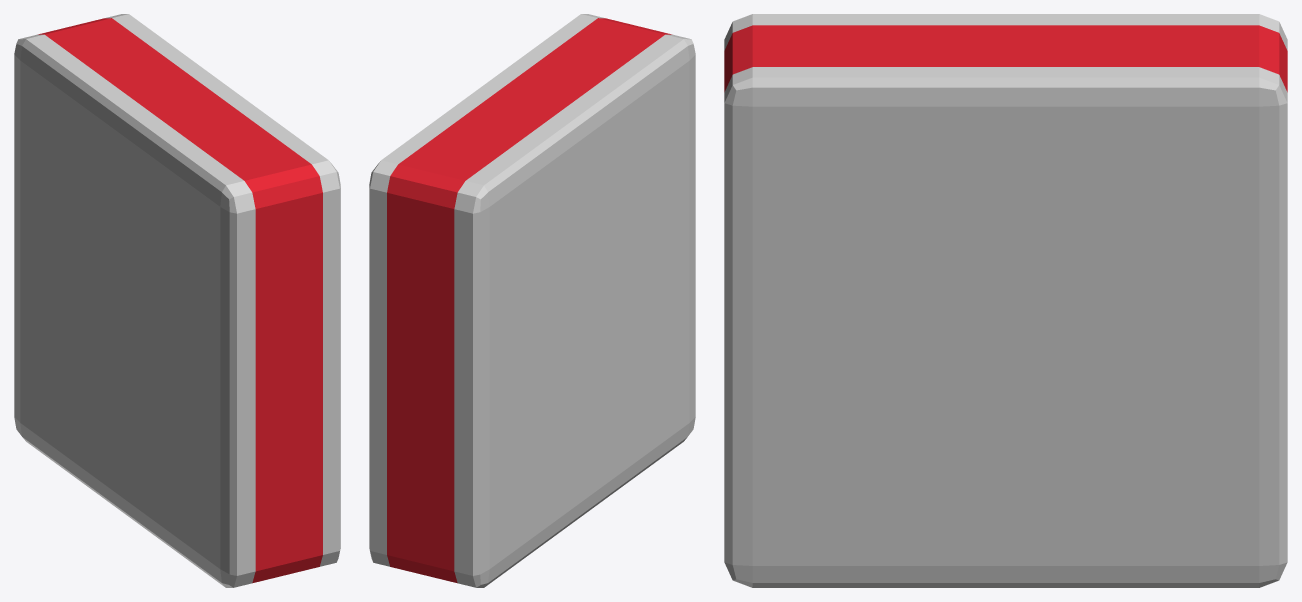
Rendered from piece.fbx.
The picture shows the model from 3 angles, left to right: view 1: azimuth 30°, elevation 25°; view 2: azimuth 150°, elevation 25°; view 3: azimuth 270°, elevation 25°; orthographic projection. The views are drawn at different scales.
Visible parts, largest first — view 1: Cube; view 2: Cube; view 3: Cube.
Part boxes in pixels (x1=…): Cube: x1=14, y1=14, x2=340, y2=587; Cube: x1=369, y1=14, x2=695, y2=587; Cube: x1=724, y1=14, x2=1287, y2=587.
Bounding box in the file's own units: 59.44 × 200 × 200.
